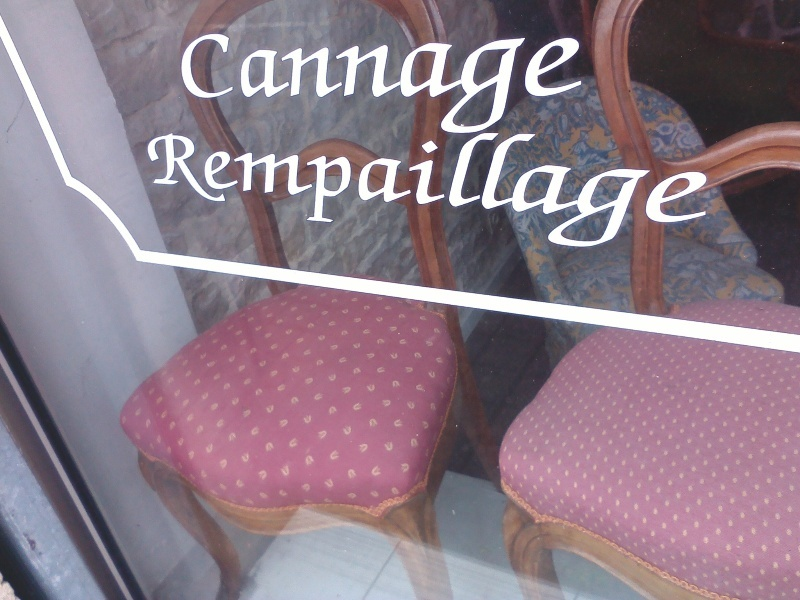text: (145, 131, 160, 259), (161, 131, 176, 259), (177, 131, 192, 259), (193, 131, 208, 259), (209, 131, 224, 259), (225, 131, 240, 259), (241, 131, 256, 259), (257, 131, 272, 259), (273, 131, 288, 259), (289, 131, 304, 259), (305, 131, 320, 259), (321, 131, 336, 259), (337, 131, 352, 259), (353, 131, 368, 259), (369, 131, 384, 259), (385, 131, 400, 259), (401, 131, 416, 259), (417, 131, 432, 259), (433, 131, 448, 259), (449, 131, 464, 259), (465, 131, 480, 259), (481, 131, 496, 259), (497, 131, 512, 259), (513, 131, 528, 259), (529, 131, 544, 259), (545, 131, 560, 259), (561, 131, 576, 259), (577, 131, 592, 259), (593, 131, 608, 259), (609, 131, 624, 259), (625, 131, 640, 259), (641, 131, 656, 259), (657, 131, 672, 259), (673, 131, 688, 259), (689, 131, 704, 259), (193, 31, 208, 136), (209, 31, 224, 136), (225, 31, 240, 136), (241, 31, 256, 136), (257, 31, 272, 136), (273, 31, 288, 136), (289, 31, 304, 136), (305, 31, 320, 136), (321, 31, 336, 136), (337, 31, 352, 136), (353, 31, 368, 136), (369, 31, 384, 136), (385, 31, 400, 136), (401, 31, 416, 136), (417, 31, 432, 136), (433, 31, 448, 136), (449, 31, 464, 136), (465, 31, 480, 136), (481, 31, 496, 136), (497, 31, 512, 136), (513, 31, 528, 136), (529, 31, 544, 136), (545, 31, 560, 136), (561, 31, 576, 136), (178, 31, 192, 136), (577, 31, 588, 136), (705, 131, 710, 259)
